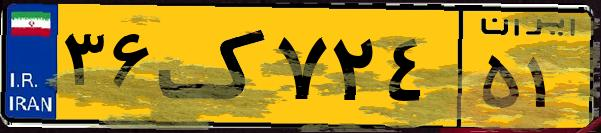1: (525, 38, 570, 115)
2: (330, 28, 385, 110)
3: (57, 26, 110, 100)
4: (385, 28, 445, 110)
5: (475, 38, 525, 113)
6: (110, 28, 158, 98)
7: (270, 28, 330, 110)
ک: (158, 12, 270, 120)
